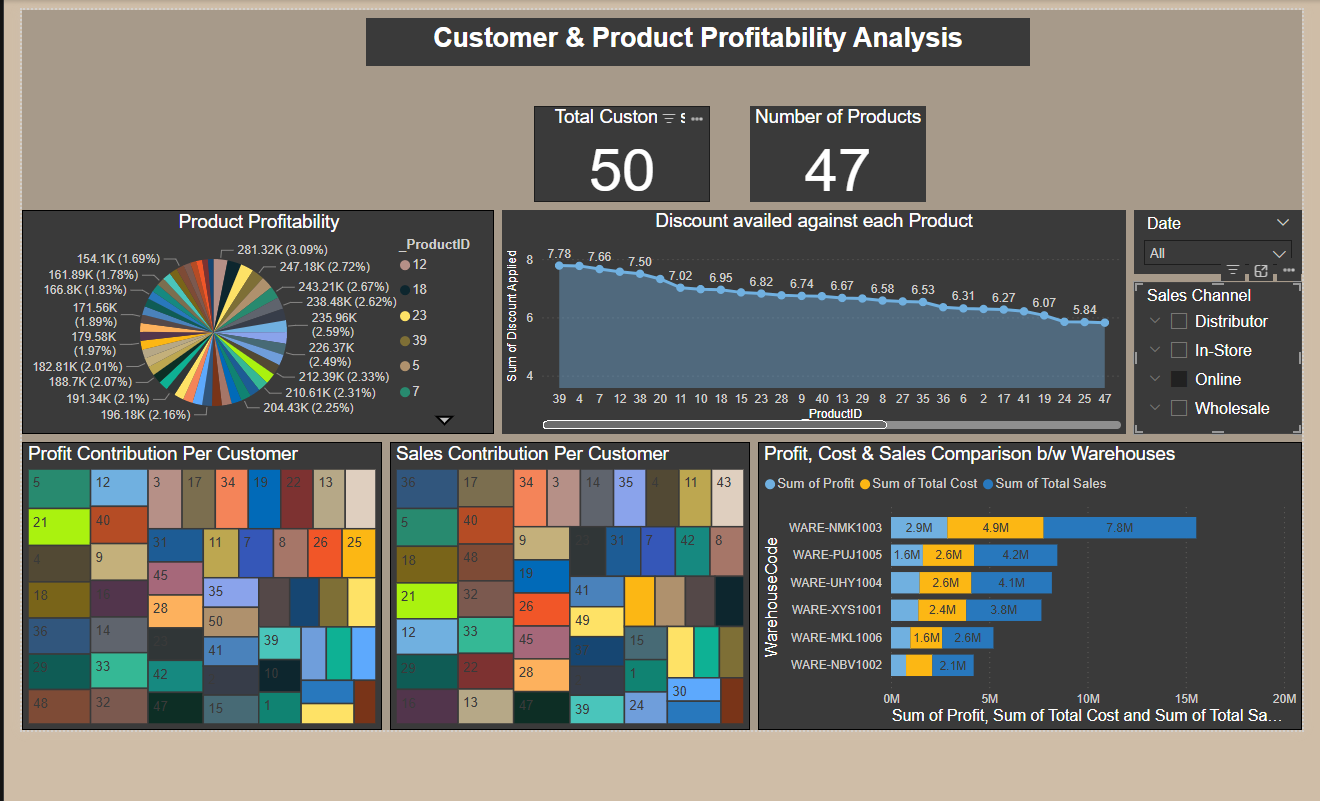

The page's visual inventory and layout, read from the dashboard file:
{"tool":"powerbi","page":{"name":"Customer & Product","canvas":[1280,720],"ordinal":1},"visuals":[{"type":"treemap","title":"Sales Contribution Per Customer","fields":{"Group":["Working Sheet._CustomerID"],"Values":["Sum(Working Sheet.Total Sales)"]},"box":[368,432,360,288],"z":0},{"type":"barChart","title":"Profit, Cost & Sales Comparison b/w Warehouses ","fields":{"Y":["Sum(Working Sheet.Profit)","Sum(Working Sheet.Total Cost)","Sum(Working Sheet.Total Sales)"],"Category":["Working Sheet.WarehouseCode"]},"box":[736,432,544,288],"z":1000},{"type":"treemap","title":"Profit Contribution Per Customer","fields":{"Group":["Working Sheet._CustomerID"],"Values":["Sum(Working Sheet.Profit)"]},"box":[0,432,360,288],"z":2000},{"type":"pieChart","title":"Product Profitability","fields":{"Category":["Working Sheet._ProductID"],"Y":["Sum(Working Sheet.Profit)"]},"box":[0,200,472,224],"z":3000},{"type":"slicer","fields":{"Values":["Working Sheet.Sales Channel","Working Sheet.R-Order Date","Working Sheet.R-Order Date.Variation.Date Hierarchy.Year"]},"box":[1112,272,168,152],"z":4000},{"type":"slicer","fields":{"Values":["Working Sheet.R-Order Date.Variation.Date Hierarchy.Year","Working Sheet.R-Order Date.Variation.Date Hierarchy.Quarter","Working Sheet.R-Order Date.Variation.Date Hierarchy.Month","Working Sheet.R-Order Date.Variation.Date Hierarchy.Day"]},"box":[1112,200,168,64],"z":5000},{"type":"textbox","box":[344,8,664,48],"z":6000},{"type":"card","title":"Total Customers","fields":{"Values":["Count(Working Sheet._CustomerID)"]},"box":[512,96,176,96],"z":7000},{"type":"card","title":"Number of Products","fields":{"Values":["Count(Working Sheet._ProductID)"]},"box":[728,96,176,96],"z":8000},{"type":"stackedAreaChart","title":"Discount availed against each Product","fields":{"Category":["Working Sheet._ProductID"],"Y":["Sum(Working Sheet.Discount Applied)"]},"box":[480,200,624,224],"z":9000}]}

Visuals, with their boxes on the page's 1280x720 design canvas (x1, y1, x2, y2). These are canvas units, not pixel positions in the 1320x801 screenshot, which may show the page scaled, cropped or inside an application window:
"Sales Contribution Per Customer" treemap: Rect(368, 432, 728, 720)
"Profit, Cost & Sales Comparison b/w Warehouses " barChart: Rect(736, 432, 1280, 720)
"Profit Contribution Per Customer" treemap: Rect(0, 432, 360, 720)
"Product Profitability" pieChart: Rect(0, 200, 472, 424)
slicer - Working Sheet.Sales Channel x Working Sheet.R-Order Date: Rect(1112, 272, 1280, 424)
slicer - Working Sheet.R-Order Date.Variation.Date Hierarchy.Year x Working Sheet.R-Order Date.Variation.Date Hierarchy.Quarter: Rect(1112, 200, 1280, 264)
textbox: Rect(344, 8, 1008, 56)
"Total Customers" card: Rect(512, 96, 688, 192)
"Number of Products" card: Rect(728, 96, 904, 192)
"Discount availed against each Product" stackedAreaChart: Rect(480, 200, 1104, 424)
